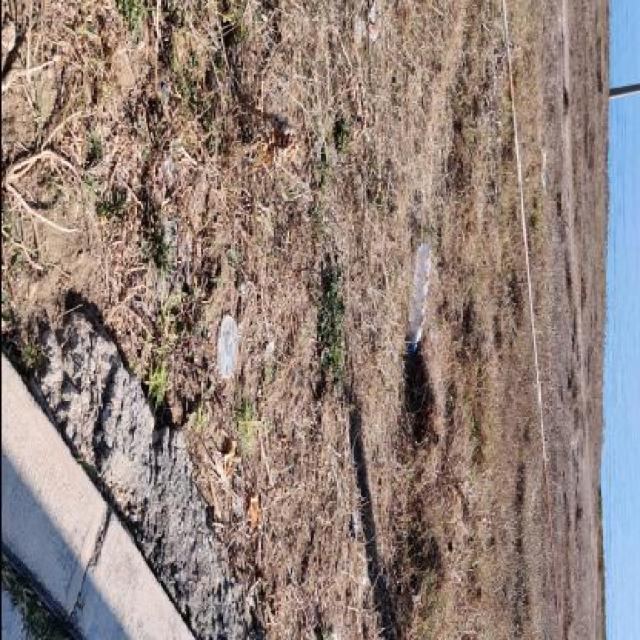plastic: (407, 242, 430, 353), (215, 315, 237, 379)
